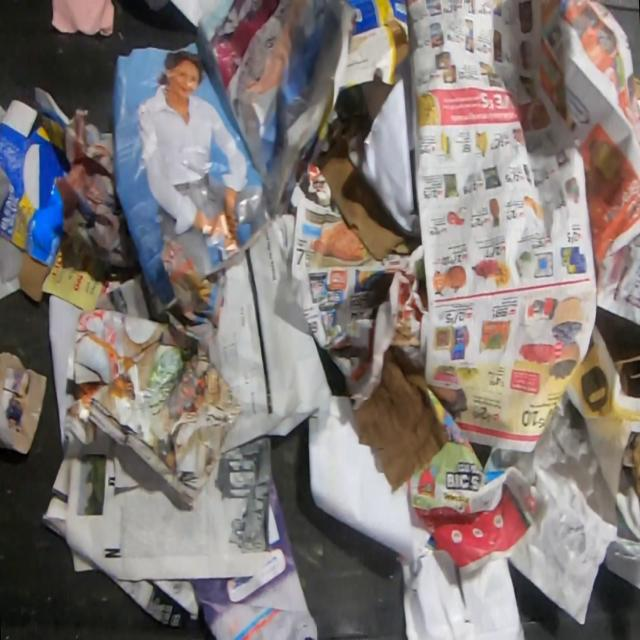cardboard: (0, 85, 70, 301), (340, 0, 412, 89)
